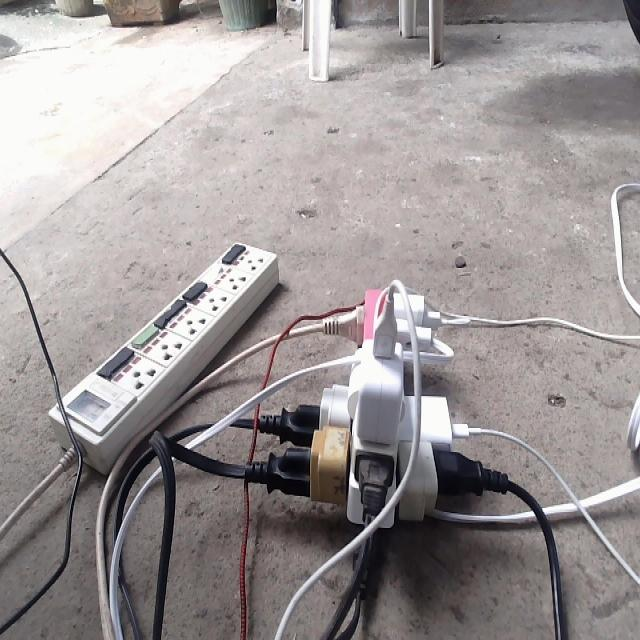-: (269, 274, 492, 526)
